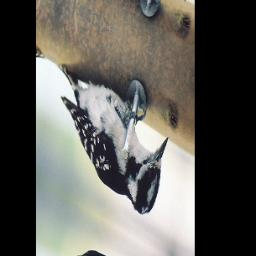Woodpecker: (46, 50, 170, 225)
